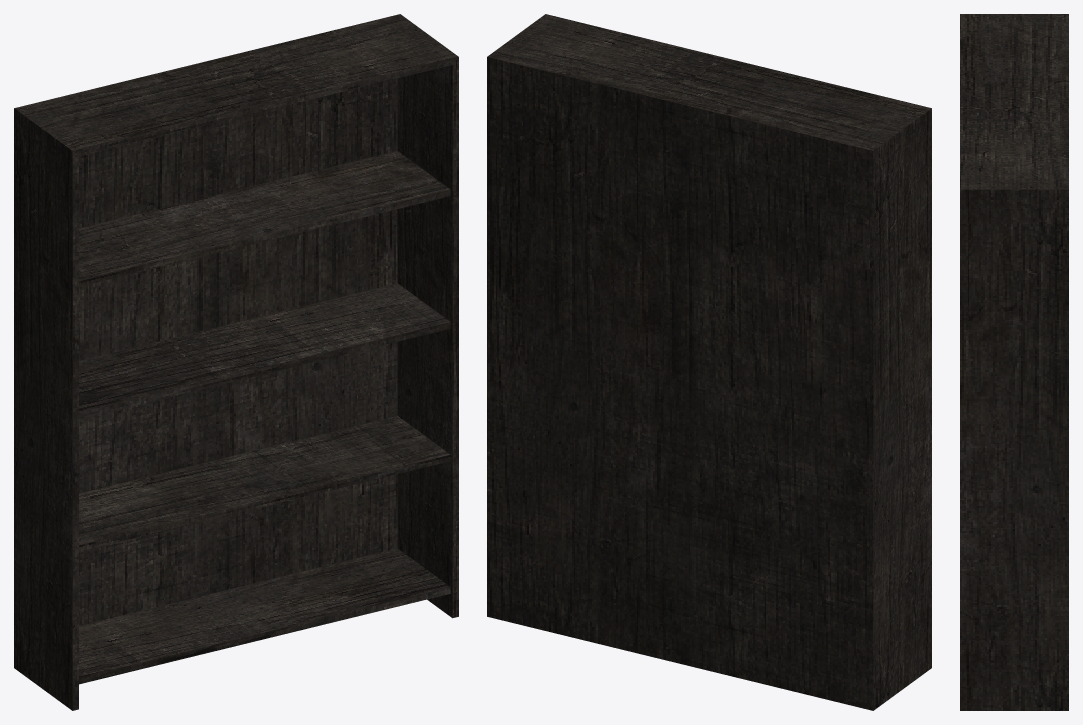
File: shelf_mp_5.glb
3 renders of one model, left to right at view 1: azimuth 30°, elevation 25°; view 2: azimuth 150°, elevation 25°; view 3: azimuth 270°, elevation 25°, orthographic. The views are drawn at different scales.
Parts seen in each view (by area): view 1: shelf_mp_5; view 2: shelf_mp_5; view 3: shelf_mp_5.
Boxes of the visible parts, <box> form: shelf_mp_5: <box>14,14,458,710</box>; shelf_mp_5: <box>487,14,931,710</box>; shelf_mp_5: <box>960,14,1068,710</box>.
Size of the model in its own units: 1.22 by 1.69 by 0.32.
Materials: 1 (1 with a texture image).
